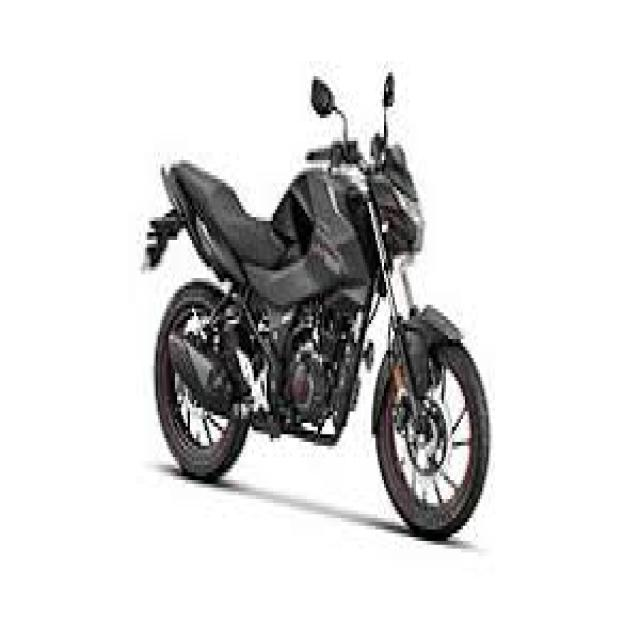Bike: (138, 60, 494, 550)
